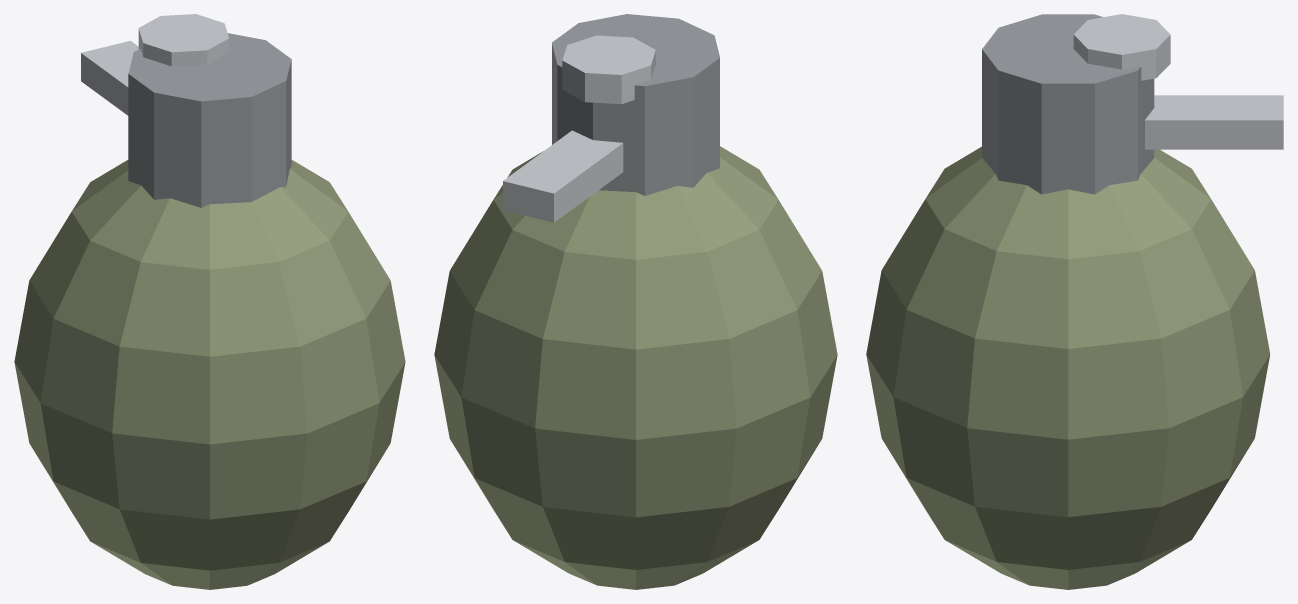
File: grenade.glb
3 renders of one model, left to right at view 1: azimuth 30°, elevation 25°; view 2: azimuth 150°, elevation 25°; view 3: azimuth 270°, elevation 25°, orthographic. The views are drawn at different scales.
Visible parts, largest first — view 1: grenade; view 2: grenade; view 3: grenade.
Boxes of the visible parts, x1,y1,x2,y2 form: grenade: (14, 14, 405, 589); grenade: (434, 14, 837, 589); grenade: (866, 14, 1283, 589).
Bounding box in the file's own units: 0.15 × 0.221 × 0.155.
